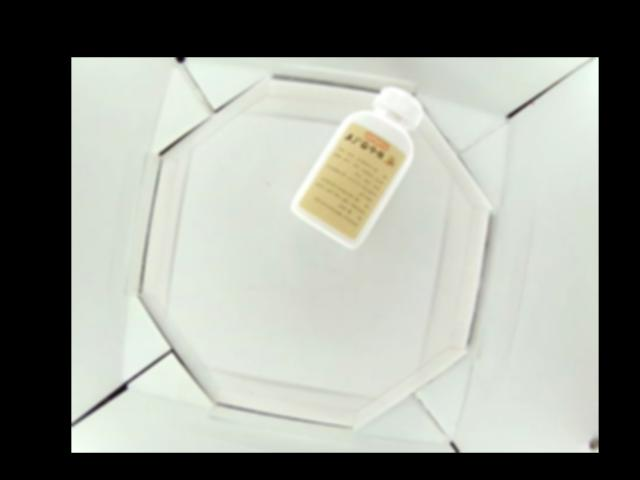Bottle: (292, 85, 422, 247)
